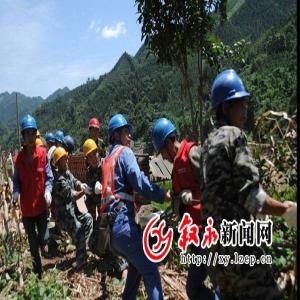blue: (210, 67, 248, 130), (152, 117, 178, 167), (108, 112, 132, 151), (21, 114, 39, 148), (63, 136, 75, 157), (45, 133, 55, 149), (56, 132, 64, 148)
red: (88, 117, 101, 141)
yellow: (84, 138, 101, 170), (54, 148, 70, 174)
